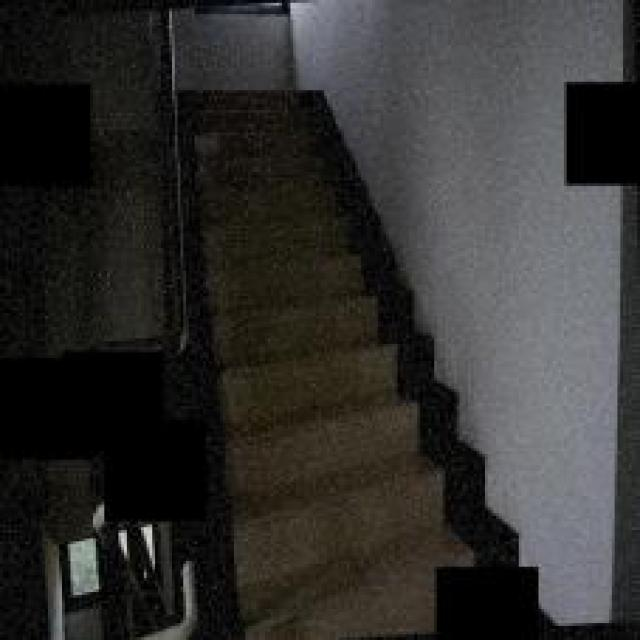upstair: (220, 203, 400, 601)
